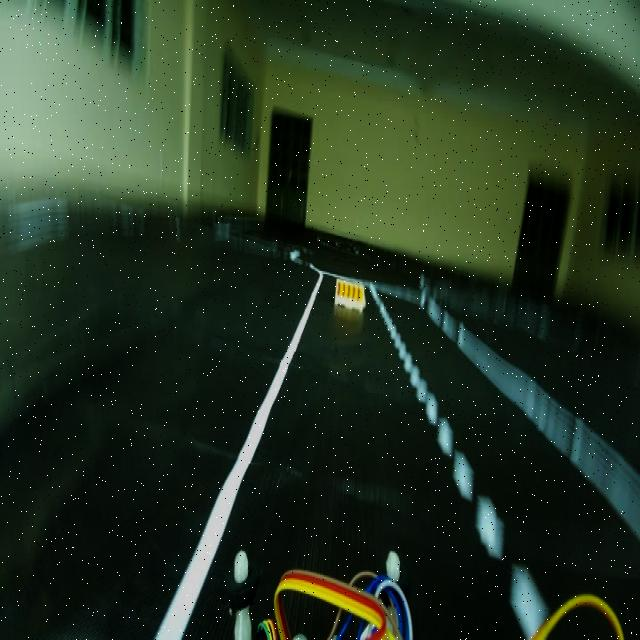roadblock: (332, 272, 368, 324)
